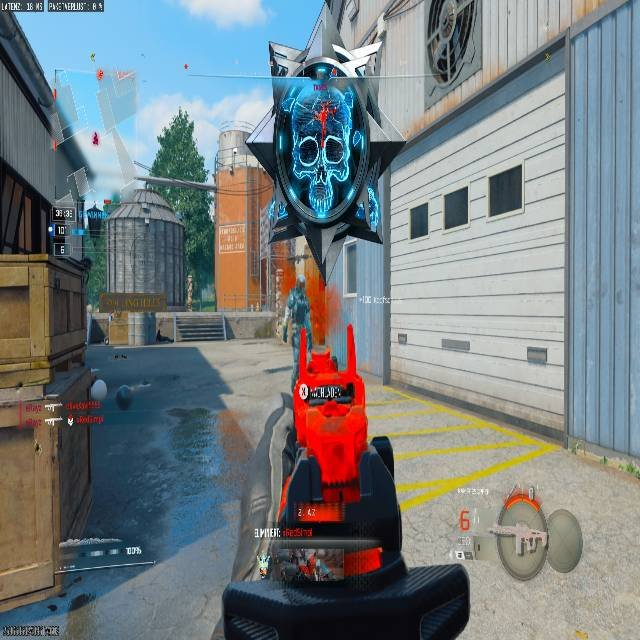player: (279, 281, 310, 344)
